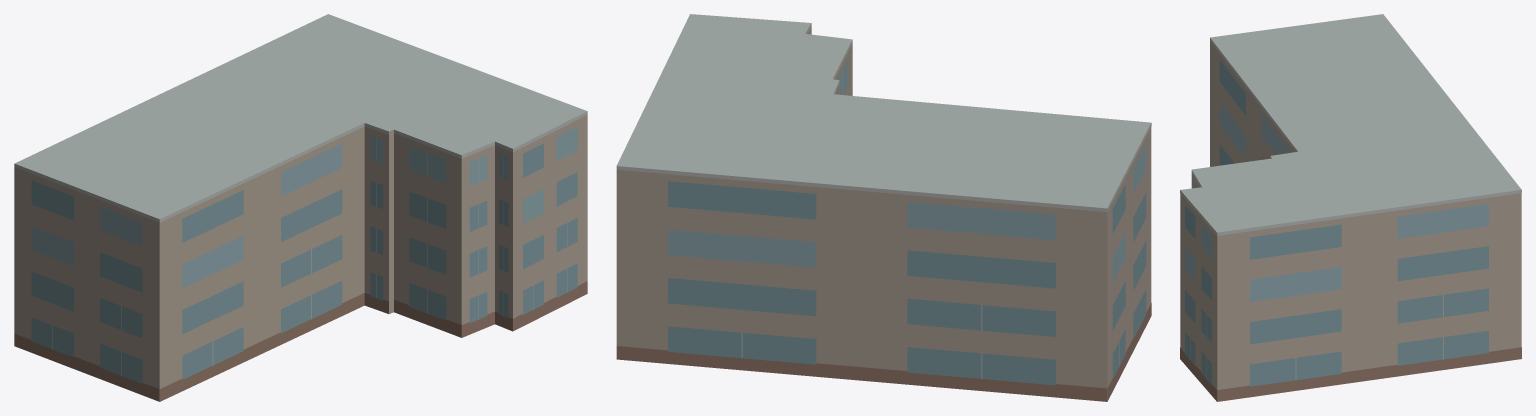
Rendered from survey-upis-32586442.glb.
The picture shows the model from 3 angles, left to right: view 1: azimuth 30°, elevation 25°; view 2: azimuth 150°, elevation 25°; view 3: azimuth 270°, elevation 25°; orthographic projection. The views are drawn at different scales.
Visible parts, largest first — view 1: survey-upis-32586442.tmp; view 2: survey-upis-32586442.tmp; view 3: survey-upis-32586442.tmp.
Part boxes in pixels (box(x1,y1,x2,y2)): survey-upis-32586442.tmp: box(14, 14, 587, 401); survey-upis-32586442.tmp: box(616, 14, 1151, 401); survey-upis-32586442.tmp: box(1180, 14, 1521, 401).
Size of the model in its own units: 34.92 by 12.6 by 23.06.
